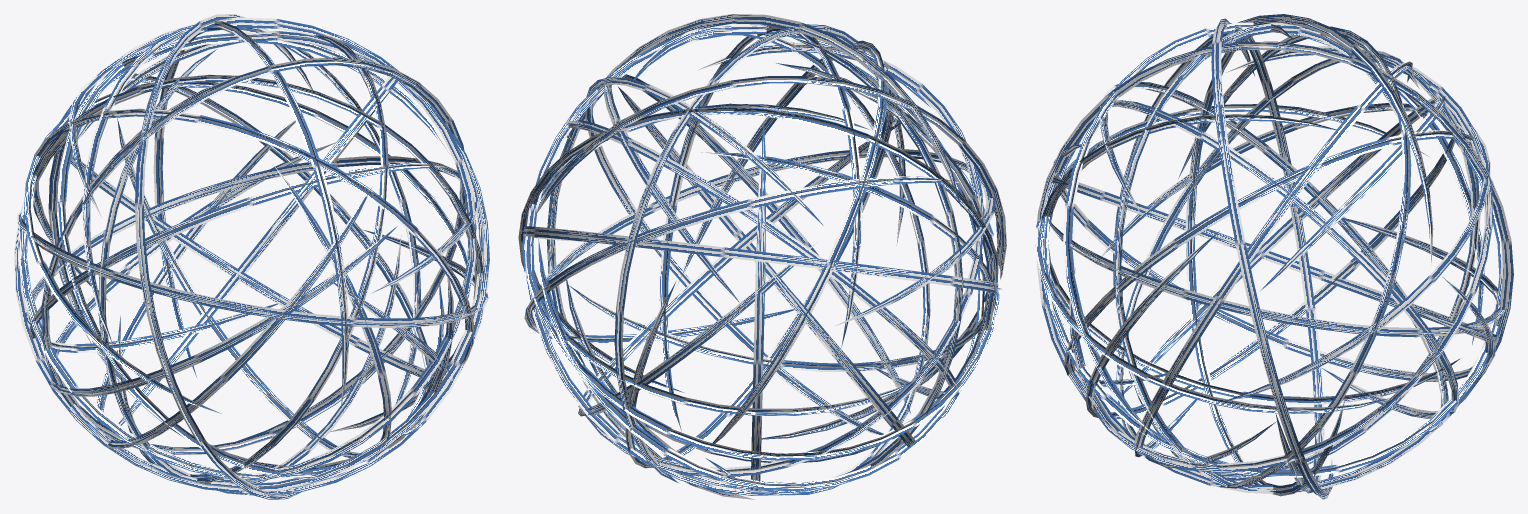
File: Rui_Dome2.fbx
3 views of the same model, side by side, from view 1: azimuth 30°, elevation 25°; view 2: azimuth 150°, elevation 25°; view 3: azimuth 270°, elevation 25° (orthographic).
Visible parts, largest first — view 1: SM_e_Plc_P1007_Dome002; view 2: SM_e_Plc_P1007_Dome002; view 3: SM_e_Plc_P1007_Dome002.
Part boxes in pixels (bbox=[...]): SM_e_Plc_P1007_Dome002: bbox=[14, 14, 489, 499]; SM_e_Plc_P1007_Dome002: bbox=[518, 14, 1006, 499]; SM_e_Plc_P1007_Dome002: bbox=[1035, 14, 1513, 499].
Size of the model in its own units: 490 by 482 by 484.
